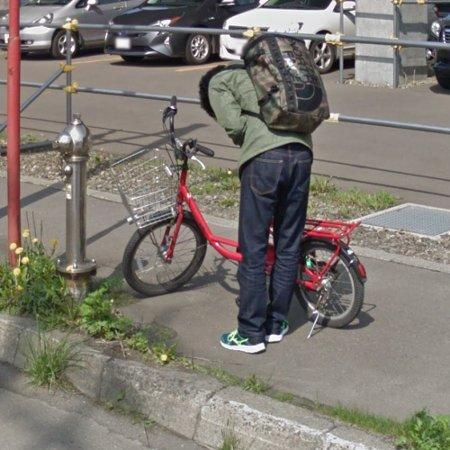bicycles: (115, 103, 242, 297), (297, 220, 366, 328)
